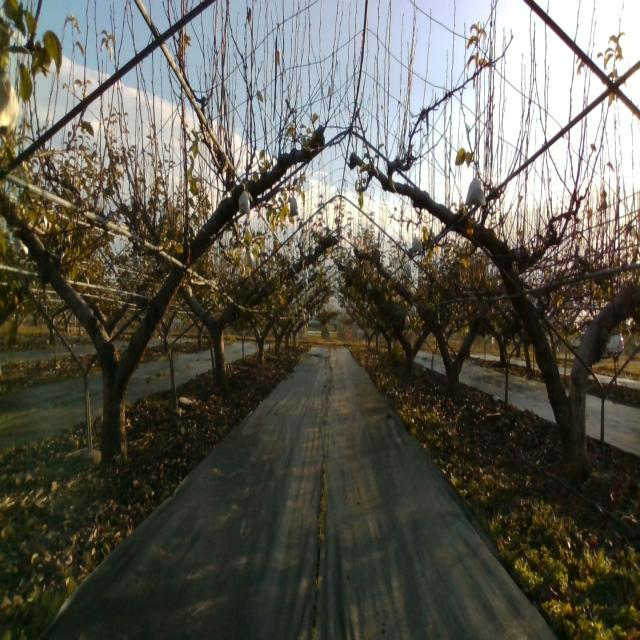pearbags: (0, 78, 20, 135), (465, 177, 486, 210), (238, 183, 250, 217), (288, 193, 300, 217), (412, 232, 423, 253)
